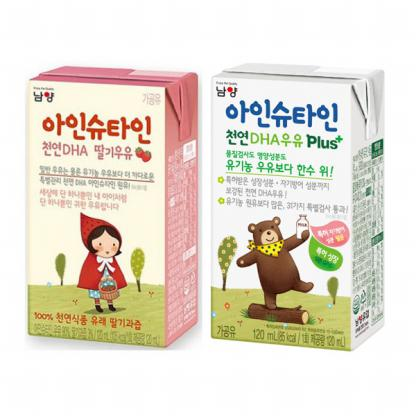tetra: (204, 49, 408, 360), (18, 51, 202, 360)
